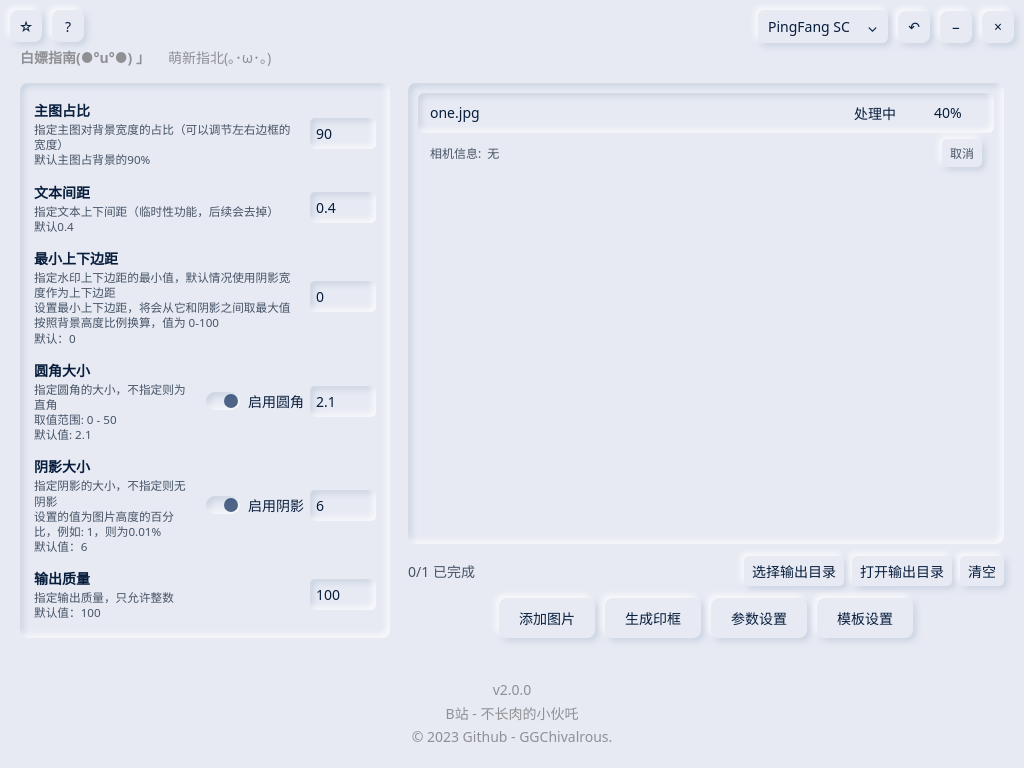
Test: task workflows › cancels a running task from the task list
The image size is (1024, 768).
Click the button with aria-label "取消 one.jpg" at [962, 153], box [942,139,982,167]
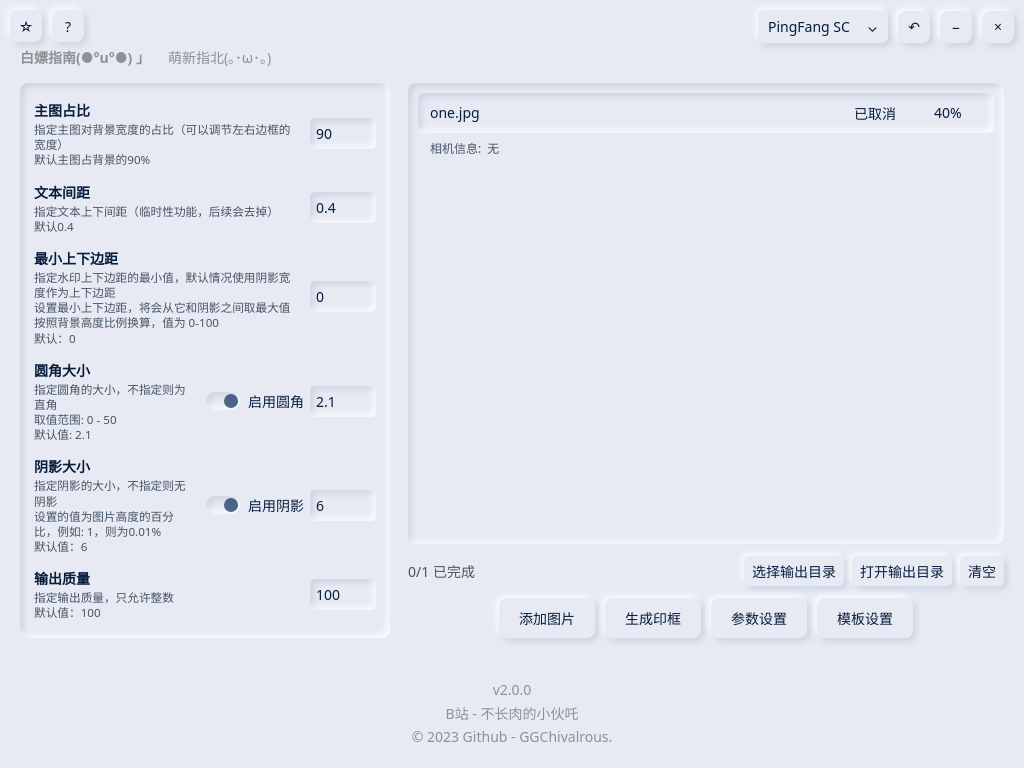
Check: the text "已取消" is shown, box [854,104,896,123]
